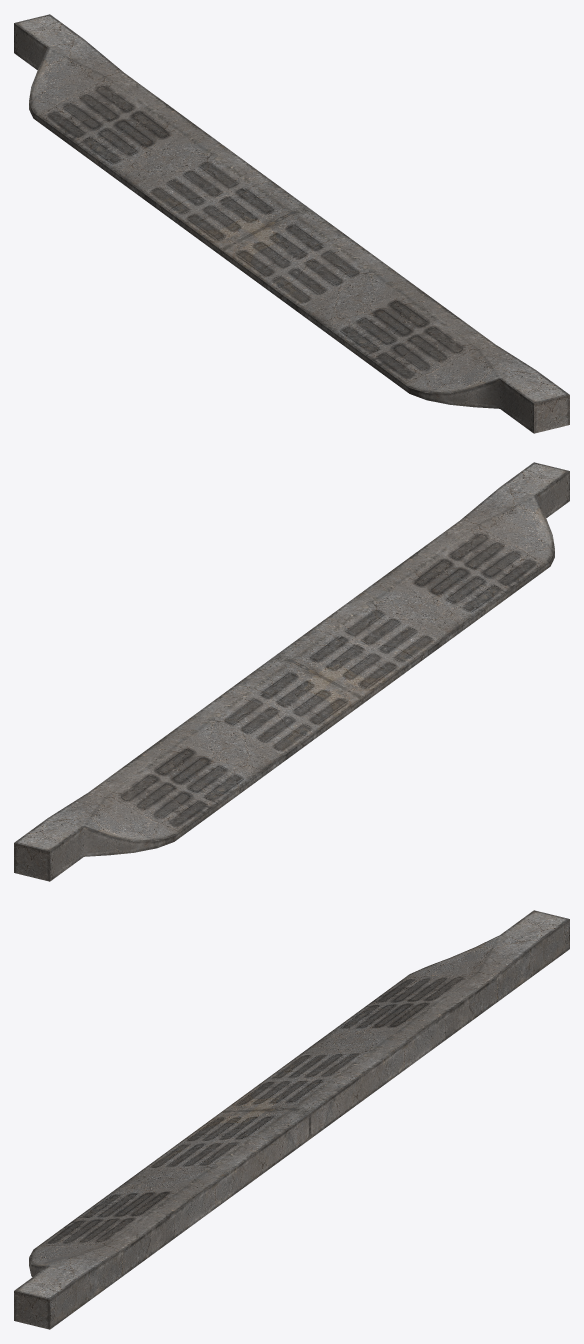
File: CP_Curbstone_Ramp.fbx
The picture shows the model from 3 angles, top to bottom: view 1: azimuth 30°, elevation 25°; view 2: azimuth 150°, elevation 25°; view 3: azimuth 330°, elevation 25°; orthographic projection.
Visible parts, largest first — view 1: CP_Curbstone_Ramp; view 2: CP_Curbstone_Ramp; view 3: CP_Curbstone_Ramp.
Boxes of the visible parts, left/top/right/bottom form: CP_Curbstone_Ramp: left=14, top=14, right=569, bottom=433; CP_Curbstone_Ramp: left=14, top=462, right=569, bottom=881; CP_Curbstone_Ramp: left=14, top=910, right=569, bottom=1329.
Bounding box in the file's own units: 39.33 × 12.77 × 400.
